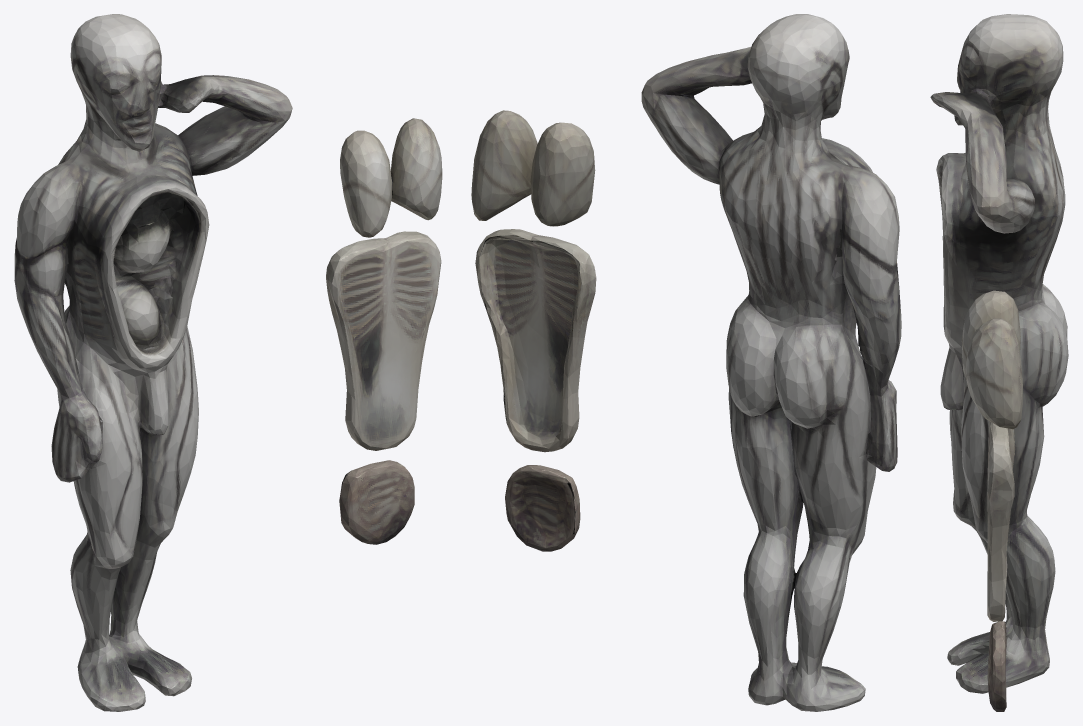
The model's file is 3D-demo-3.glb.
3 renders of one model, left to right at view 1: azimuth 30°, elevation 25°; view 2: azimuth 150°, elevation 25°; view 3: azimuth 270°, elevation 25°, orthographic. The views are drawn at different scales.
Parts seen in each view (by area): view 1: world; view 2: world; view 3: world.
Boxes of the visible parts, x1,y1,x2,y2 form: world: (14,14,442,711); world: (471,14,901,711); world: (930,14,1068,711).
Bounding box in the file's own units: 0.6542 × 0.999 × 0.1932.
1 material, 1 textured.
